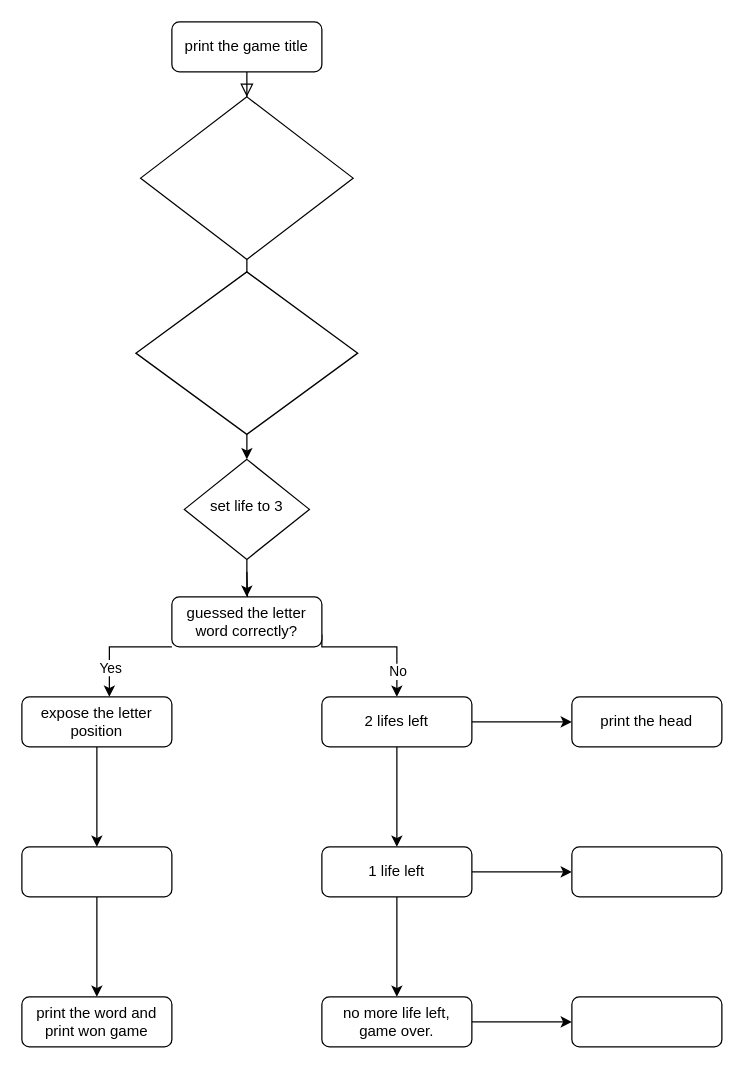
This 744x1069 diagram has some shape labels left out. The centre of each missing label's shape, as x and y in pixels:
"choose random word to guess" belongs at point 246,177.
"if no more letters to expose" belongs at point 96,871.
"output the randomg word length with _" belongs at point 246,352.
"print body and hands" belongs at point 646,871.
"print legs" belongs at point 646,1021.
